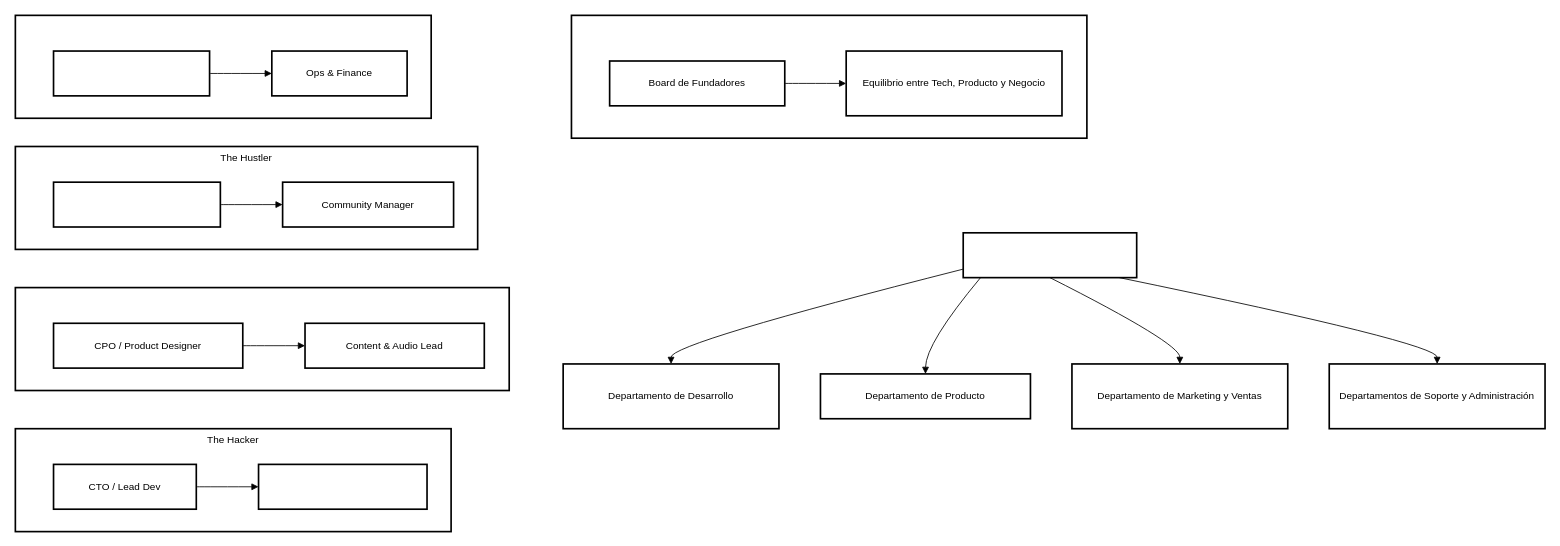
Image size: 1560x546. Some labels were removed from this diagram. Each missing label, with the box of its shape:
CMO / Growth Lead: (52, 181, 221, 227)
Customer Support: (52, 50, 210, 96)
Dirección / Gerencia: (962, 232, 1137, 278)
El Núcleo del Triángulo: (570, 14, 1087, 139)
Full Stack & DevOps: (257, 463, 427, 510)
Responsabilidad Compartida: (14, 14, 432, 119)
The Hipster: (14, 286, 510, 391)
